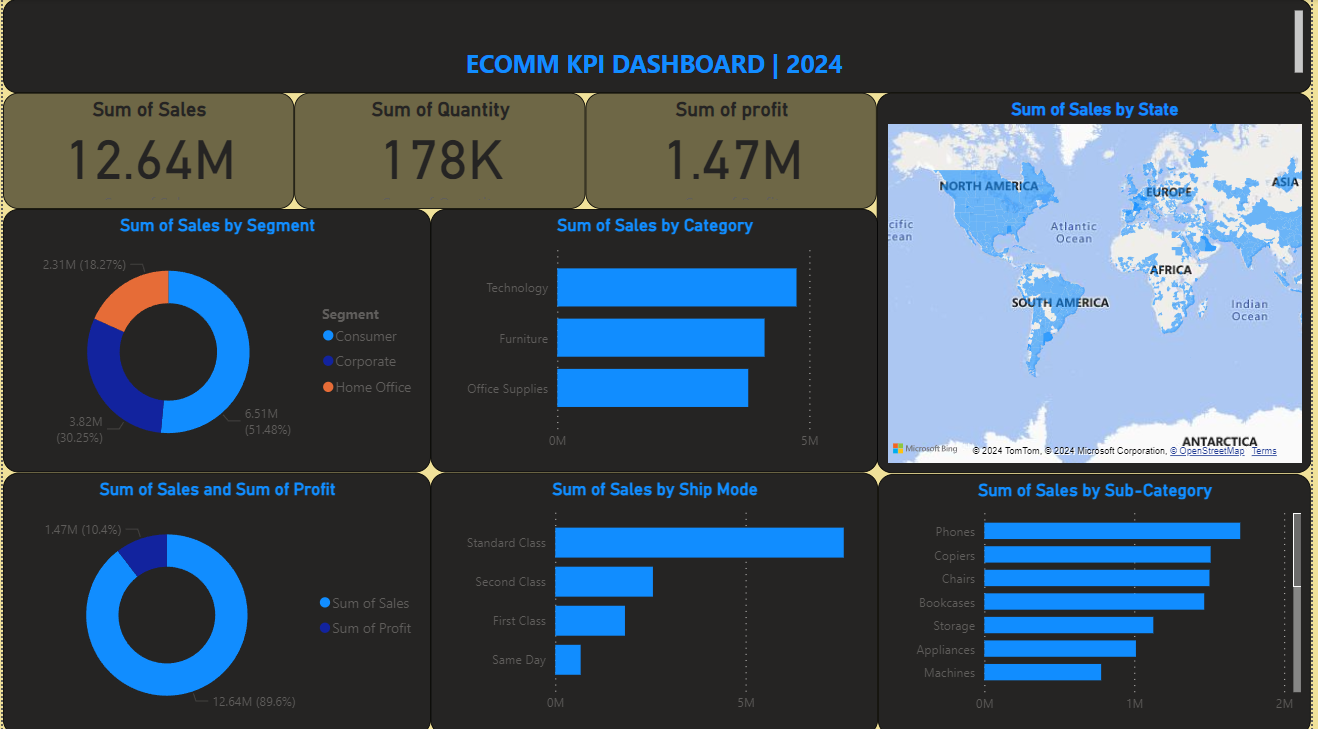

The page's visual inventory and layout, read from the dashboard file:
{"tool":"powerbi","page":{"name":"Page 1","canvas":[1280,720],"ordinal":0},"visuals":[{"type":"textbox","box":[0,0,1280.3,91.9],"z":0},{"type":"card","title":"Sum of Sales","fields":{"Values":["Sum(in.Sales)"]},"box":[0,91.7,284.8,113.7],"z":1000},{"type":"card","title":"Sum of Quantity","fields":{"Values":["Sum(in.Quantity)"]},"box":[284.8,91.7,284.8,113.7],"z":2000},{"type":"card","title":"Sum of profit","fields":{"Values":["Sum(in.Profit)"]},"box":[569.6,91.7,284.8,113.7],"z":3000},{"type":"filledMap","fields":{"Category":["in.State"]},"box":[854.5,91.7,425.4,371.6],"z":4000},{"type":"clusteredBarChart","fields":{"Category":["in.Category"],"Y":["Sum(in.Sales)"]},"box":[418.1,205.4,437.6,257.9],"z":5000},{"type":"donutChart","fields":{"Y":["Sum(in.Sales)"],"Category":["in.Segment"]},"box":[0,205.4,418.1,257.9],"z":6000},{"type":"donutChart","fields":{"Y":["Sum(in.Sales)","Sum(in.Profit)"]},"box":[0,463.3,418.1,256.7],"z":6001},{"type":"clusteredBarChart","fields":{"Y":["Sum(in.Sales)"],"Category":["in.Ship Mode"]},"box":[418.1,463.3,437.6,256.7],"z":6002},{"type":"clusteredBarChart","fields":{"Y":["Sum(in.Sales)"],"Category":["in.Sub-Category"]},"box":[856,464,423,256],"z":6003}]}

Visuals, with their boxes in screenshot pixels (x1, y1, x2, y2), scaled from the page's 1280x720 canvas onto the 1318x729 screenshot:
textbox: pyautogui.locateOnScreen(0, 0, 1317, 93)
"Sum of Sales" card: pyautogui.locateOnScreen(0, 93, 293, 208)
"Sum of Quantity" card: pyautogui.locateOnScreen(293, 93, 587, 208)
"Sum of profit" card: pyautogui.locateOnScreen(587, 93, 880, 208)
filledMap - in.State: pyautogui.locateOnScreen(880, 93, 1317, 469)
clusteredBarChart - in.Category x Sum(in.Sales): pyautogui.locateOnScreen(431, 208, 881, 469)
donutChart - Sum(in.Sales) x in.Segment: pyautogui.locateOnScreen(0, 208, 431, 469)
donutChart - Sum(in.Sales) x Sum(in.Profit): pyautogui.locateOnScreen(0, 469, 431, 728)
clusteredBarChart - Sum(in.Sales) x in.Ship Mode: pyautogui.locateOnScreen(431, 469, 881, 728)
clusteredBarChart - Sum(in.Sales) x in.Sub-Category: pyautogui.locateOnScreen(881, 470, 1317, 728)
